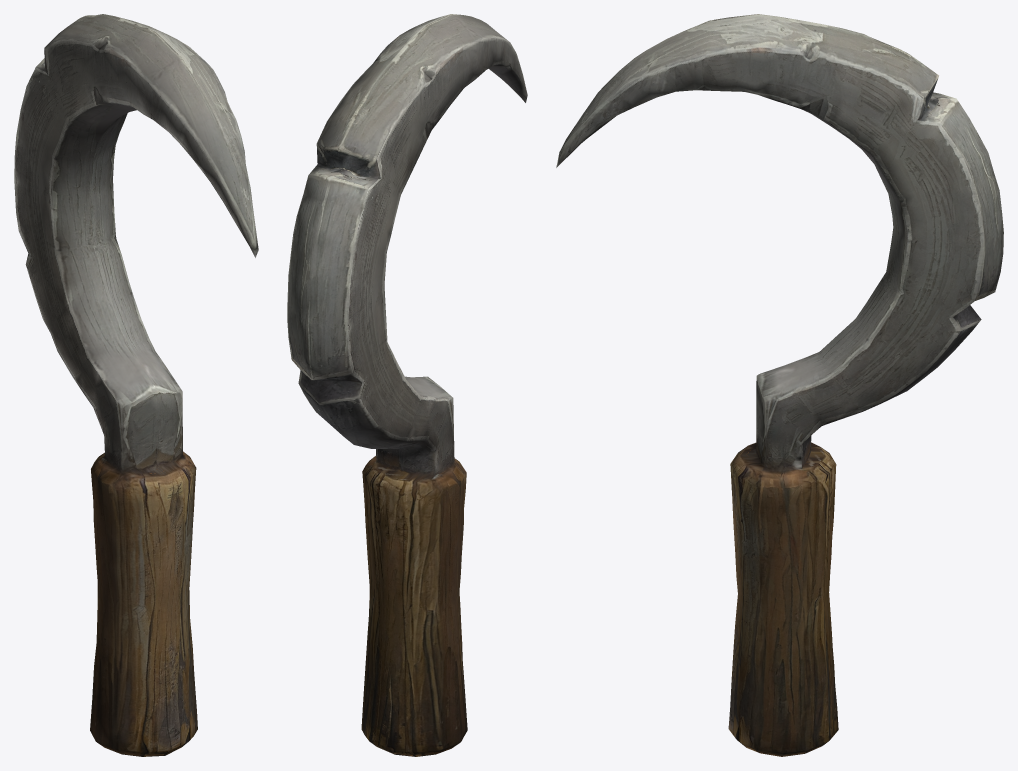
Rendered from Prop_Weapon_Sickle.fbx.
3 renders of one model, left to right at view 1: azimuth 30°, elevation 25°; view 2: azimuth 150°, elevation 25°; view 3: azimuth 270°, elevation 25°, orthographic. The views are drawn at different scales.
Visible parts, largest first — view 1: texture_mapping; view 2: texture_mapping; view 3: texture_mapping.
Boxes of the visible parts, x1,y1,x2,y2 form: texture_mapping: [14, 14, 258, 756]; texture_mapping: [287, 14, 527, 756]; texture_mapping: [556, 14, 1003, 756].
Size of the model in its own units: 0.1383 by 0.5588 by 1.
1 material, 1 textured.
